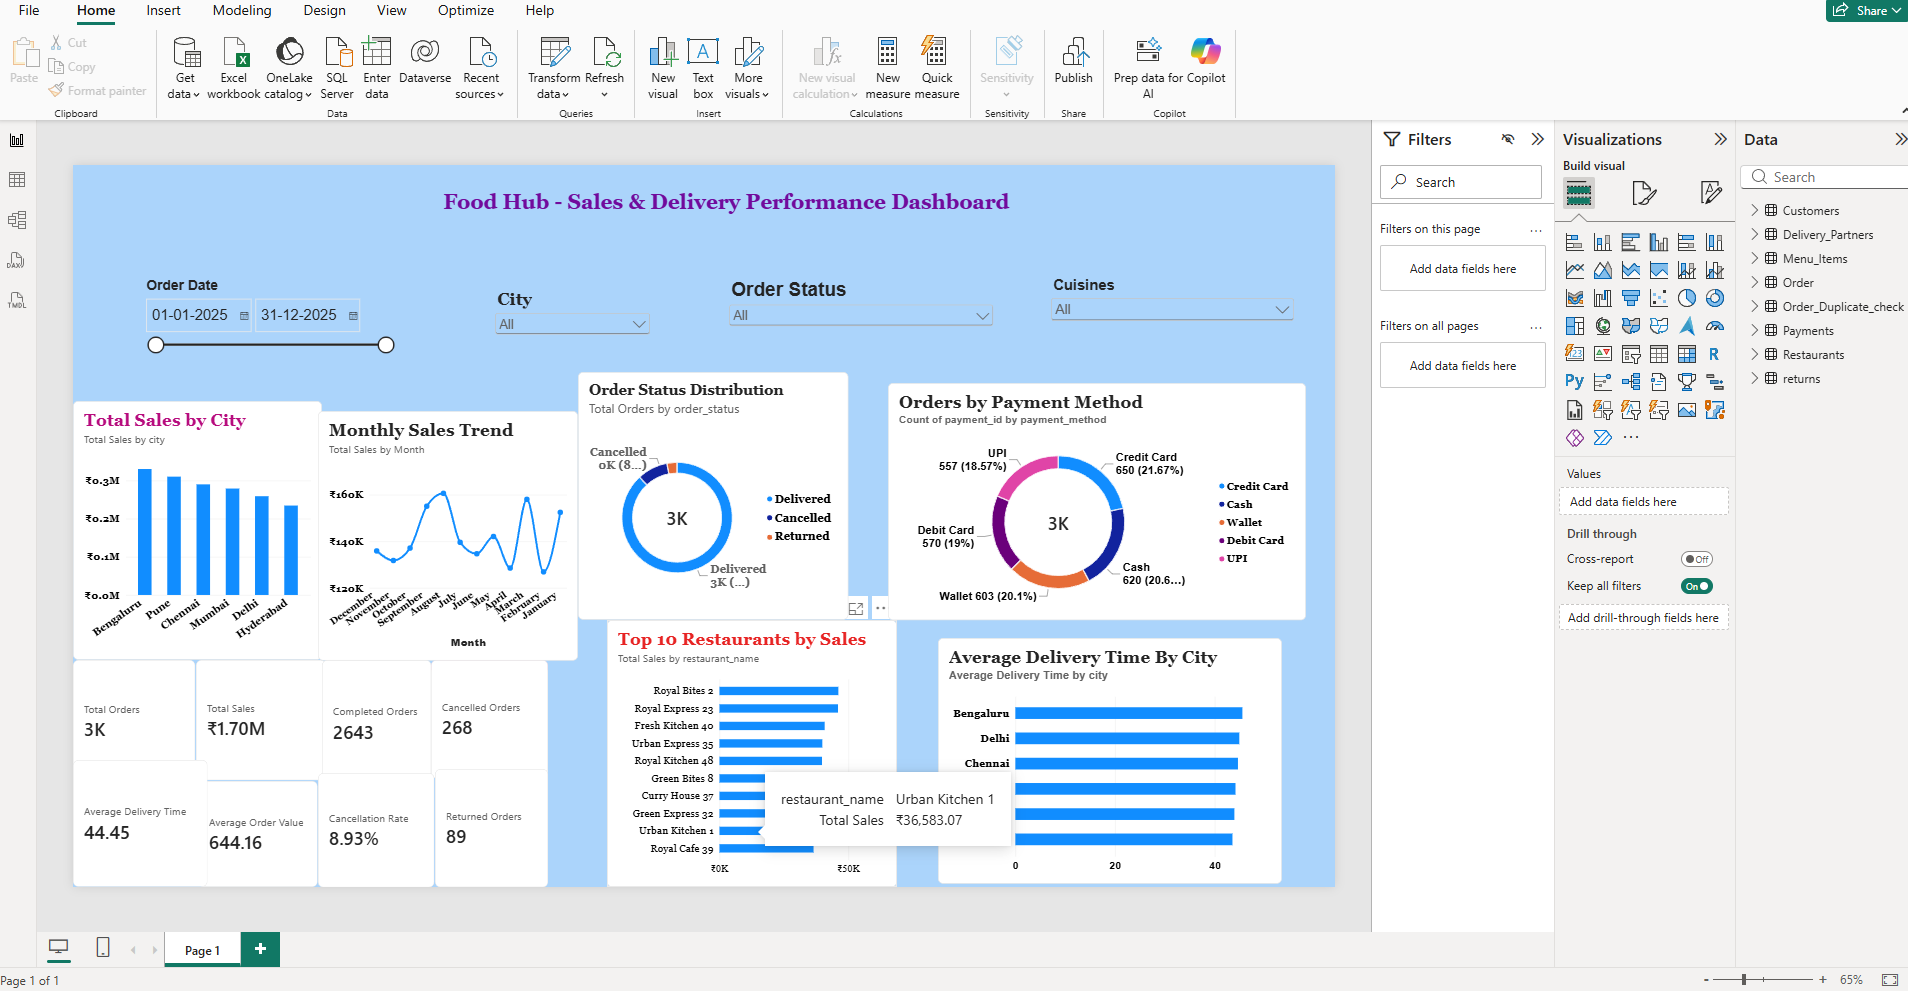

The page's visual inventory and layout, read from the dashboard file:
{"tool":"powerbi","page":{"name":"Page 1","canvas":[1942,1111],"ordinal":0},"visuals":[{"type":"cardVisual","fields":{"Data":["Customers.Total Orders"]},"box":[0,761.9,188.9,187.3],"z":0},{"type":"cardVisual","fields":{"Data":["Customers.Total Sales"]},"box":[188.9,761.9,200,185.7],"z":1000},{"type":"cardVisual","fields":{"Data":["Customers.Completed Orders"]},"box":[382.5,761.9,168.3,196.8],"z":2000},{"type":"cardVisual","fields":{"Data":["Customers.Cancelled Orders"]},"box":[550.8,761.9,181,182.5],"z":3000},{"type":"cardVisual","fields":{"Data":["Customers.Returned Orders"]},"box":[557.1,928.6,174.6,182.5],"z":4000},{"type":"cardVisual","fields":{"Data":["Customers.Average Order Value"]},"box":[192.1,947.6,184.1,163.5],"z":5000},{"type":"cardVisual","fields":{"Data":["Customers.Cancellation Rate"]},"box":[376.2,934.9,179.4,176.2],"z":5001},{"type":"clusteredColumnChart","title":"Total Sales by City","fields":{"Category":["Order.city"],"Y":["Customers.Total Sales"]},"box":[0,363.5,382.5,398.4],"z":5002},{"type":"cardVisual","fields":{"Data":["Customers.Average Delivery Time"]},"box":[0,915.9,207.9,195.2],"z":5003},{"type":"lineChart","title":"Monthly Sales Trend","fields":{"Category":["Order.order_date.Variation.Date Hierarchy.Month"],"Y":["Customers.Total Sales"]},"box":[376.2,377.8,400,384.1],"z":5004},{"type":"clusteredBarChart","title":"Top 10 Restaurants by Sales ","fields":{"Category":["Restaurants.restaurant_name"],"Y":["Customers.Total Sales"]},"box":[822.2,700,446,411.1],"z":5005},{"type":"donutChart","title":"Order Status Distribution","fields":{"Category":["Order.order_status"],"Y":["Customers.Total Orders"]},"box":[776.2,319,415.9,381],"z":5006},{"type":"donutChart","title":"Orders by Payment Method","fields":{"Category":["Payments.payment_method"],"Y":["CountNonNull(Payments.payment_id)"]},"box":[1254,334.9,642.9,365.1],"z":5007},{"type":"clusteredBarChart","title":"Average Delivery Time By City ","fields":{"Category":["Order.city"],"Y":["Customers.Average Delivery Time"]},"box":[1330.2,727,528.6,377.8],"z":5008},{"type":"slicer","fields":{"Values":["Order.city"]},"box":[644.4,190.5,247.6,93.7],"z":5009},{"type":"slicer","fields":{"Values":["Order.order_date"]},"box":[104.8,174.6,393.7,144.4],"z":5010},{"type":"slicer","fields":{"Values":["Order.order_status"]},"box":[1004.8,174.6,415.9,114.3],"z":5011},{"type":"slicer","fields":{"Values":["Restaurants.cuisine"]},"box":[1500,171.4,382.5,112.7],"z":5012},{"type":"textbox","box":[0,0,1920.6,131.7],"z":5013}]}

Visuals, with their boxes on the page's 1942x1111 design canvas (x1, y1, x2, y2). These are canvas units, not pixel positions in the 1908x991 screenshot, which may show the page scaled, cropped or inside an application window:
cardVisual - Customers.Total Orders: bbox(0, 762, 189, 949)
cardVisual - Customers.Total Sales: bbox(189, 762, 389, 948)
cardVisual - Customers.Completed Orders: bbox(382, 762, 551, 959)
cardVisual - Customers.Cancelled Orders: bbox(551, 762, 732, 944)
cardVisual - Customers.Returned Orders: bbox(557, 929, 732, 1111)
cardVisual - Customers.Average Order Value: bbox(192, 948, 376, 1111)
cardVisual - Customers.Cancellation Rate: bbox(376, 935, 556, 1111)
"Total Sales by City" clusteredColumnChart: bbox(0, 364, 382, 762)
cardVisual - Customers.Average Delivery Time: bbox(0, 916, 208, 1111)
"Monthly Sales Trend" lineChart: bbox(376, 378, 776, 762)
"Top 10 Restaurants by Sales " clusteredBarChart: bbox(822, 700, 1268, 1111)
"Order Status Distribution" donutChart: bbox(776, 319, 1192, 700)
"Orders by Payment Method" donutChart: bbox(1254, 335, 1897, 700)
"Average Delivery Time By City " clusteredBarChart: bbox(1330, 727, 1859, 1105)
slicer - Order.city: bbox(644, 190, 892, 284)
slicer - Order.order_date: bbox(105, 175, 498, 319)
slicer - Order.order_status: bbox(1005, 175, 1421, 289)
slicer - Restaurants.cuisine: bbox(1500, 171, 1882, 284)
textbox: bbox(0, 0, 1921, 132)
